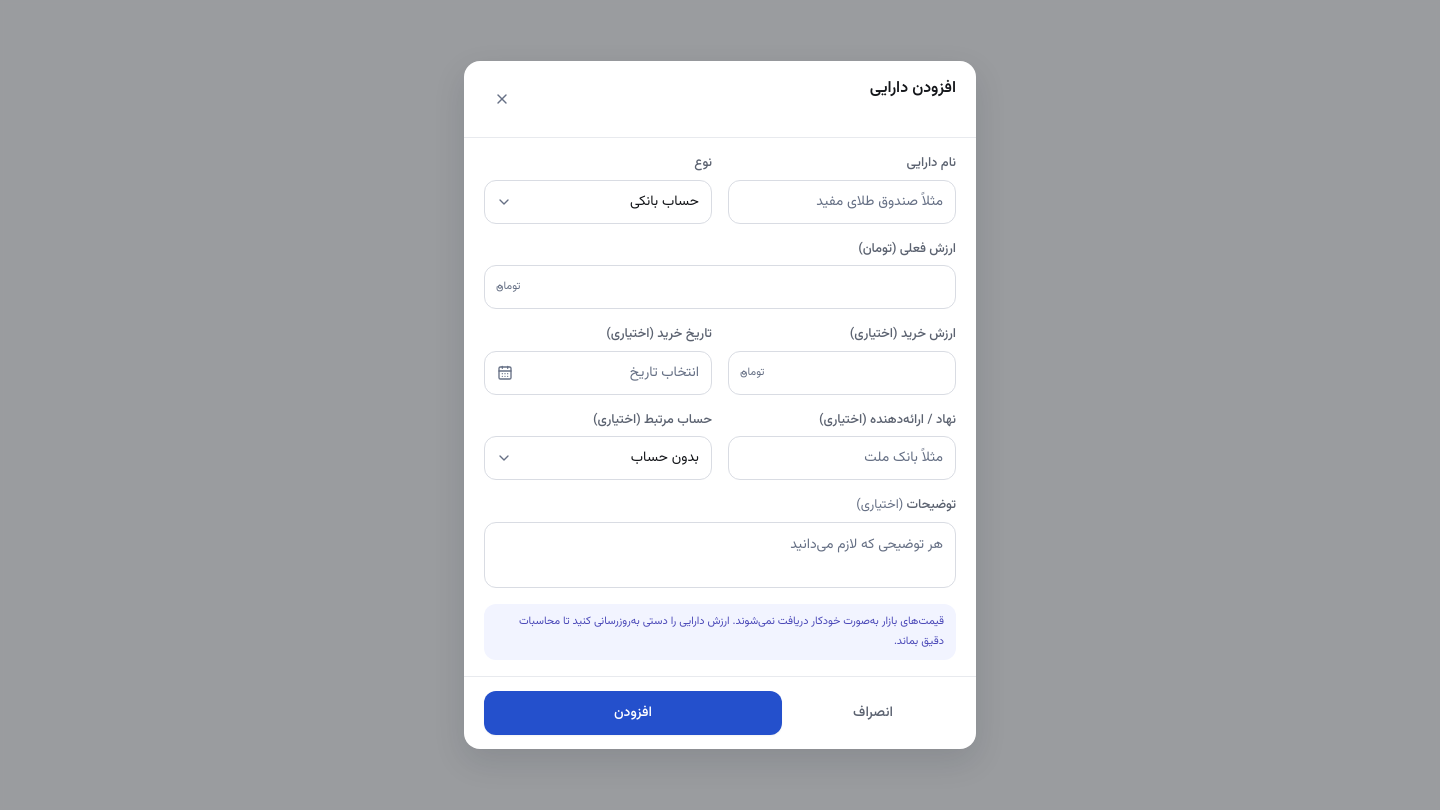
Test: AssetForm › offers unit fields only for holdings measured in units
Expected: the field labelled "تعداد" is not shown
Select "صندوق طلا" in the dropdown labelled "نوع" at point(598, 202), box [484,180,712,224]
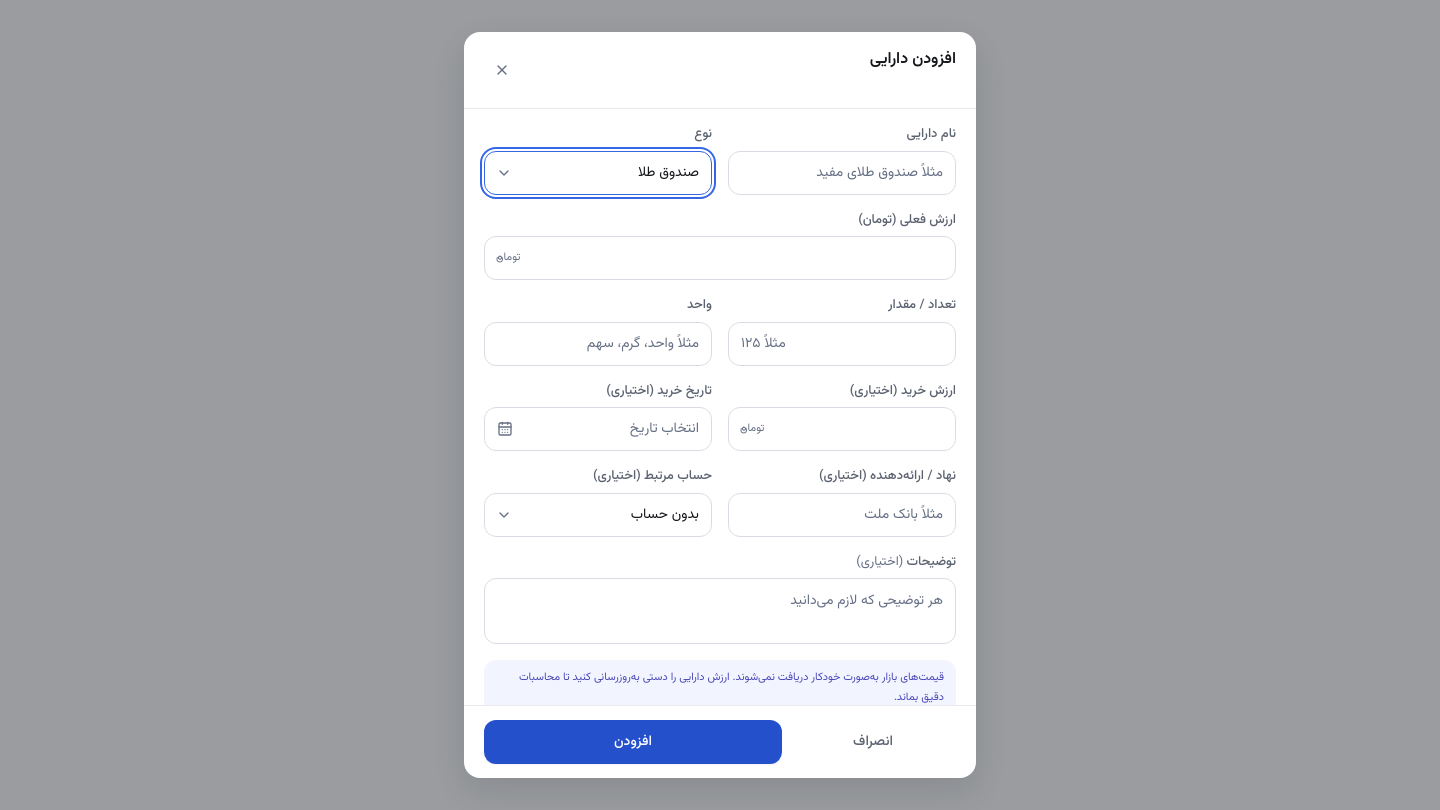
Now the field labelled "تعداد / مقدار" is shown, box [728,322,956,366]
Now the field labelled "واحد" is shown, box [484,322,712,366]
